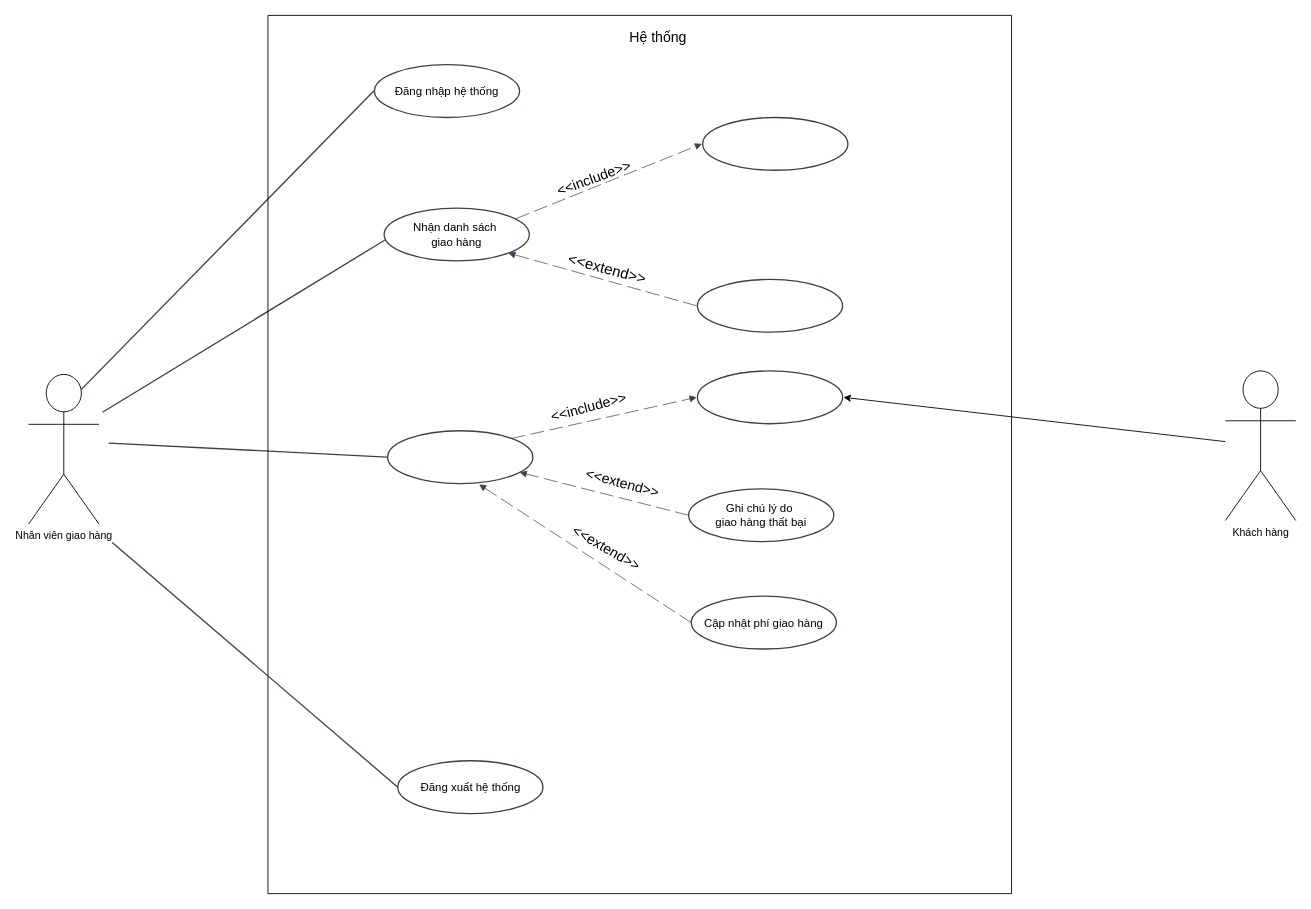
This 1311x909 diagram has some shape labels left out. Each missing label, with the box of its shape:
Cập nhật trạng thái giao hàng: (387, 430, 533, 484)
Xem danh sách đơn hàng: (696, 278, 843, 332)
Xem thông tin người nhận: (702, 116, 848, 171)
Đánh dấu trạng thái giao hàng: (696, 370, 843, 424)
